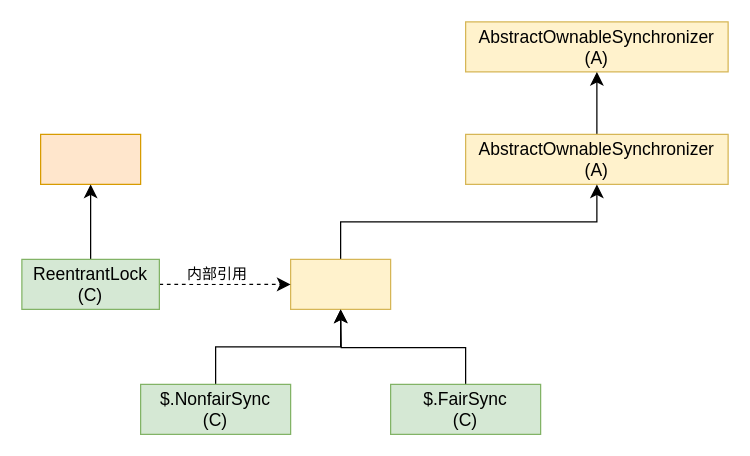
Image size: 750x456. Some labels were removed from this diagram. The shapes that lost their labels are listed below. From the top down, each one's centre as x and y in pixels, then its label:
At [90,158]: "Lock (I)".
At [340,283]: "$.Sync (A)".
